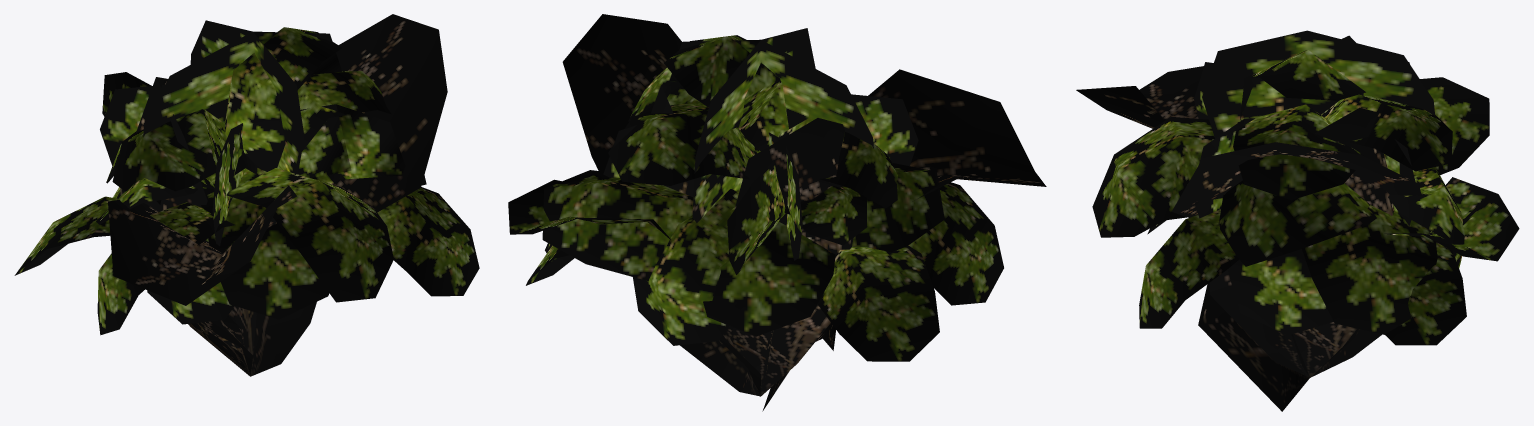
3 views of the same model, side by side, from view 1: azimuth 30°, elevation 25°; view 2: azimuth 150°, elevation 25°; view 3: azimuth 270°, elevation 25° (orthographic). The views are drawn at different scales.
Visible parts, largest first — view 1: bush_05; view 2: bush_05; view 3: bush_05.
Part boxes in pixels (x1=…): bush_05: x1=14, y1=14, x2=479, y2=376; bush_05: x1=508, y1=14, x2=1046, y2=411; bush_05: x1=1076, y1=30, x2=1519, y2=411.
Bounding box in the file's own units: 1.1 × 1.03 × 1.1.
